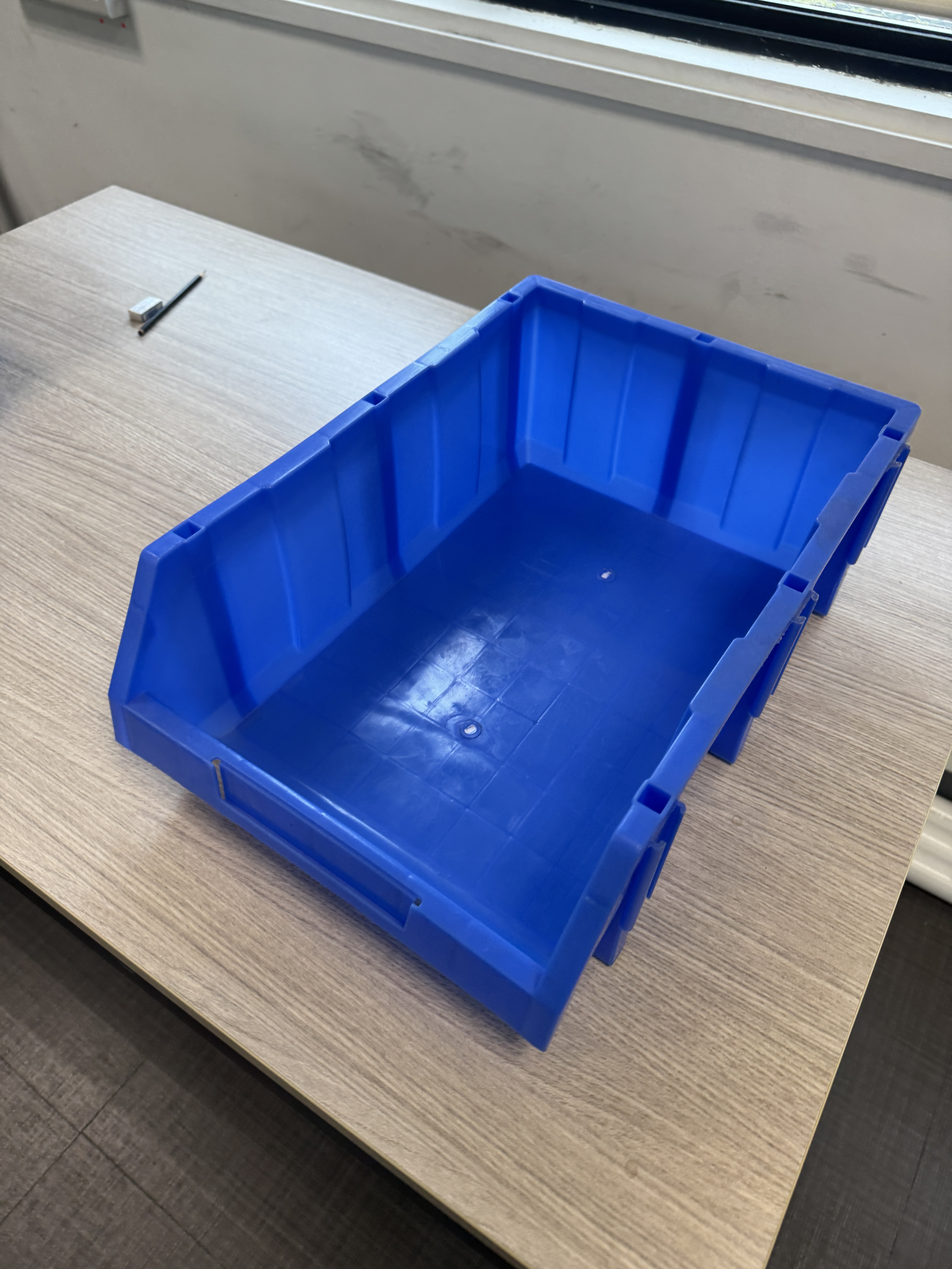Bin Boundary: (87, 116, 914, 975)
